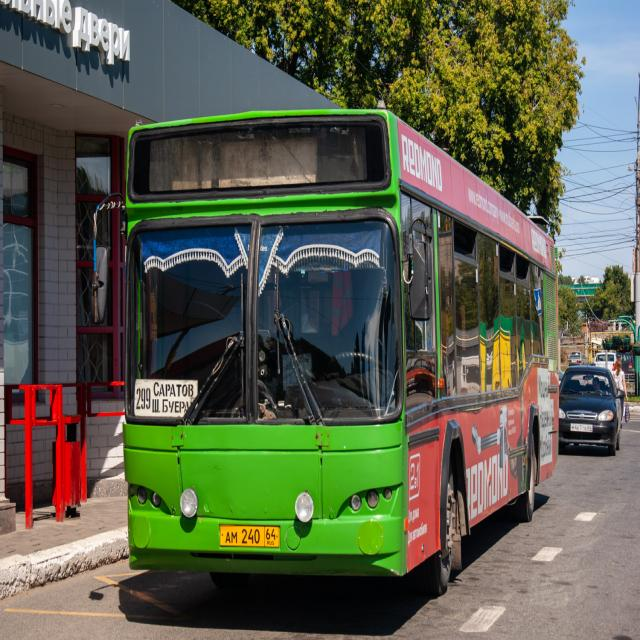number-of-bus: (136, 383, 153, 414)
